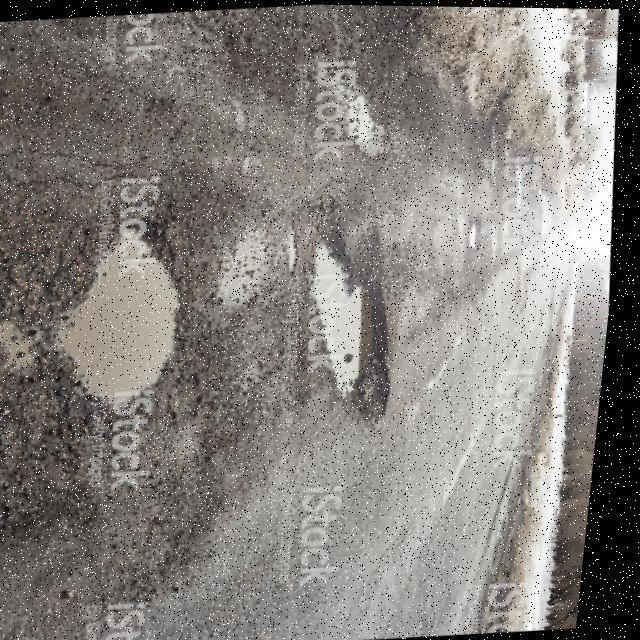Pothole: (68, 221, 188, 408), (308, 220, 393, 420), (224, 215, 285, 309), (0, 313, 60, 385), (471, 223, 485, 249)
